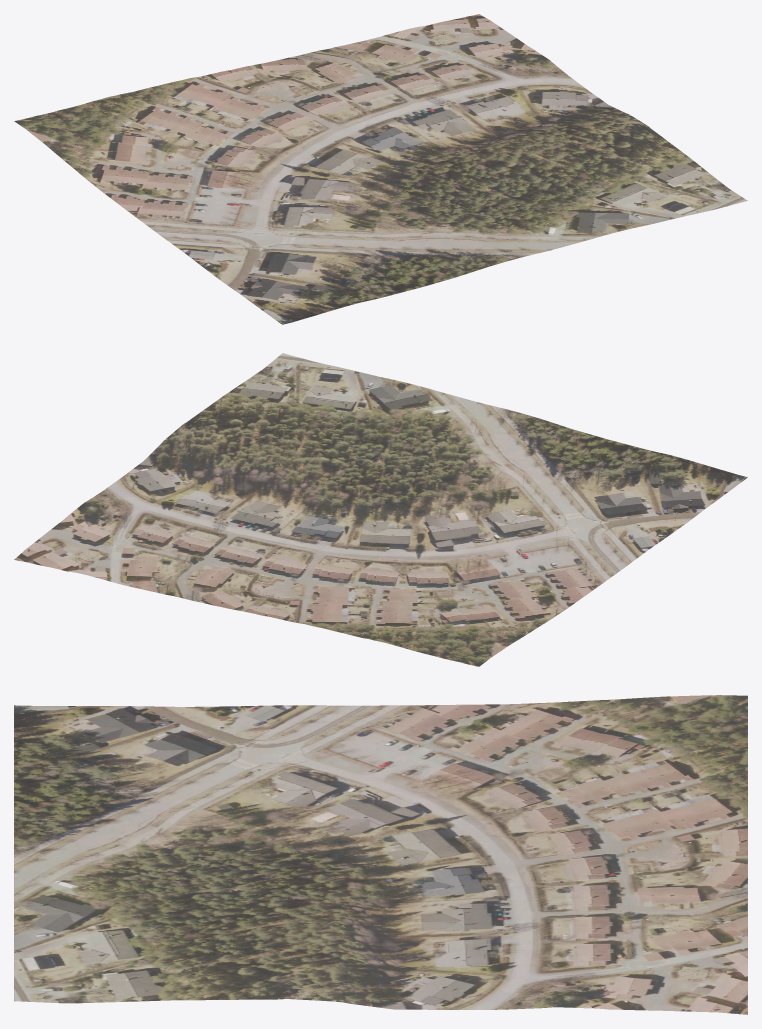
Rendered from CM_Terrain_24490868_6817132.fbx.
3 views of the same model, one above another, from view 1: azimuth 30°, elevation 25°; view 2: azimuth 150°, elevation 25°; view 3: azimuth 270°, elevation 25° (orthographic). The views are drawn at different scales.
Visible parts, largest first — view 1: CM_Terrain_24490868_6817132_LOD0; view 2: CM_Terrain_24490868_6817132_LOD0; view 3: CM_Terrain_24490868_6817132_LOD0.
Part boxes in pixels (box(x1,y1,x2,y2)): CM_Terrain_24490868_6817132_LOD0: box(14, 14, 747, 324); CM_Terrain_24490868_6817132_LOD0: box(14, 353, 747, 666); CM_Terrain_24490868_6817132_LOD0: box(14, 695, 747, 1014).
Size of what is drawn, in the model's own units: 205 by 6.57 by 205.
